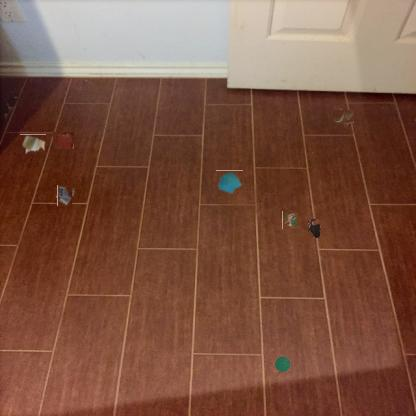dirty: (215, 170, 243, 195), (20, 134, 46, 155), (272, 354, 292, 374), (56, 186, 74, 205), (334, 108, 352, 126), (282, 211, 299, 229)
liquid: (52, 132, 74, 150), (308, 218, 320, 238)
